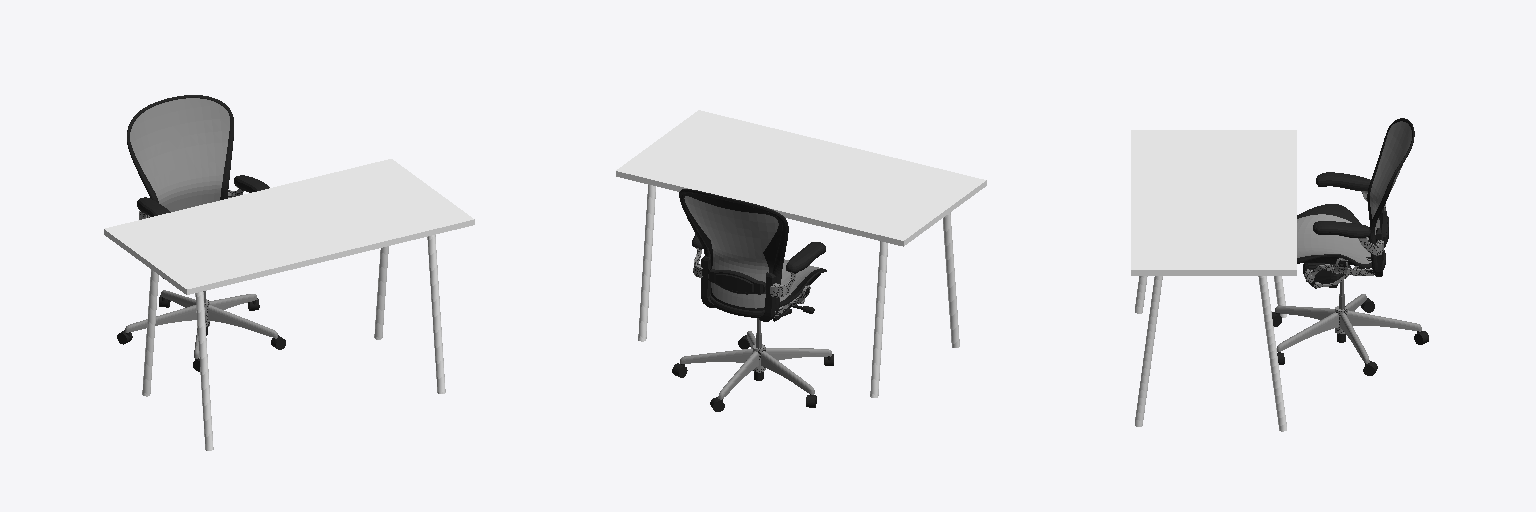
The model's file is Desk_And_Chair.obj.
3 views of the same model, side by side, from view 1: azimuth 30°, elevation 25°; view 2: azimuth 150°, elevation 25°; view 3: azimuth 270°, elevation 25° (orthographic).
Parts seen in each view (by area): view 1: group_5_ID37, _3_Minute_Custom_Aeron, group_1_ID7, group_3_ID7, group_2_ID7, group_4_ID7; view 2: group_5_ID37, _3_Minute_Custom_Aeron, group_2_ID7, group_4_ID7, group_1_ID7; view 3: group_5_ID37, _3_Minute_Custom_Aeron, group_4_ID7, group_3_ID7.
Boxes of the visible parts, x1,y1,x2,y2 form: group_5_ID37: [104, 159, 474, 294]; _3_Minute_Custom_Aeron: [117, 95, 285, 371]; group_1_ID7: [195, 291, 213, 450]; group_3_ID7: [427, 235, 445, 393]; group_2_ID7: [142, 270, 158, 396]; group_4_ID7: [374, 246, 388, 339]; group_5_ID37: [616, 110, 986, 246]; _3_Minute_Custom_Aeron: [672, 189, 833, 411]; group_2_ID7: [870, 241, 887, 397]; group_4_ID7: [638, 185, 655, 341]; group_1_ID7: [943, 212, 959, 347]; group_5_ID37: [1131, 130, 1296, 275]; _3_Minute_Custom_Aeron: [1272, 118, 1428, 375]; group_4_ID7: [1258, 276, 1286, 431]; group_3_ID7: [1135, 276, 1162, 426].
Bounding box in the file's own units: 1.6 × 1.21 × 1.44.